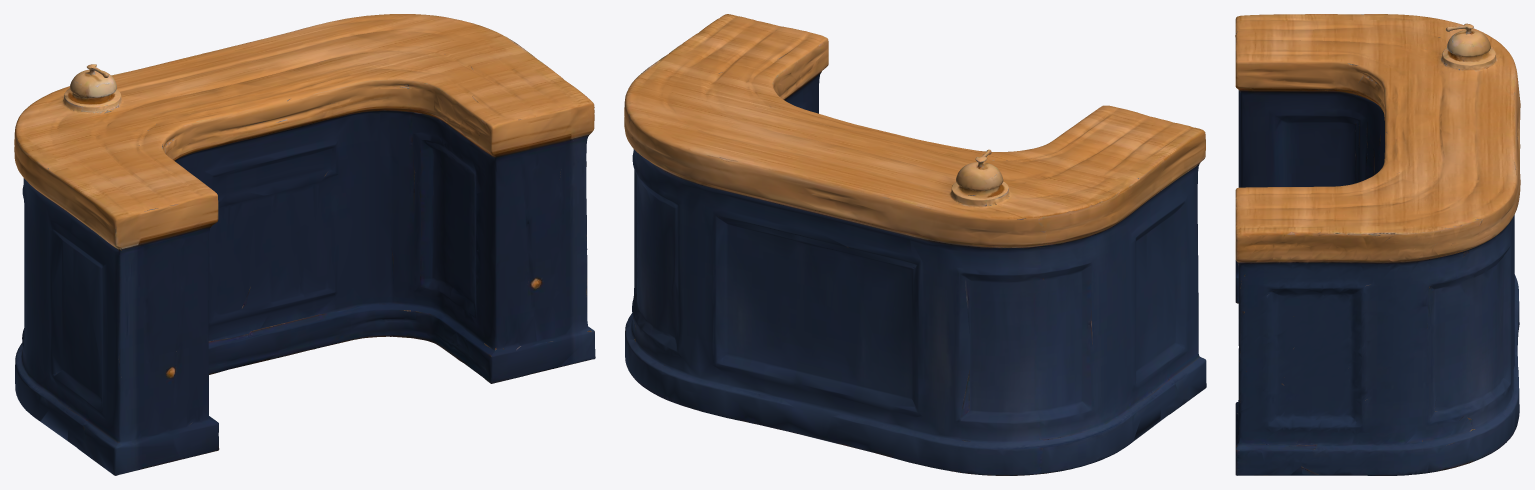
The model's file is counter.glb.
The picture shows the model from 3 angles, left to right: view 1: azimuth 30°, elevation 25°; view 2: azimuth 150°, elevation 25°; view 3: azimuth 270°, elevation 25°; orthographic projection. The views are drawn at different scales.
Visible parts, largest first — view 1: Mesh_0; view 2: Mesh_0; view 3: Mesh_0.
Boxes of the visible parts, <box> form: Mesh_0: <box>14,14,595,475</box>; Mesh_0: <box>624,14,1206,475</box>; Mesh_0: <box>1235,14,1520,475</box>.
Size of the model in its own units: 1.9 by 1.11 by 1.03.
Materials: 1 (1 with a texture image).
